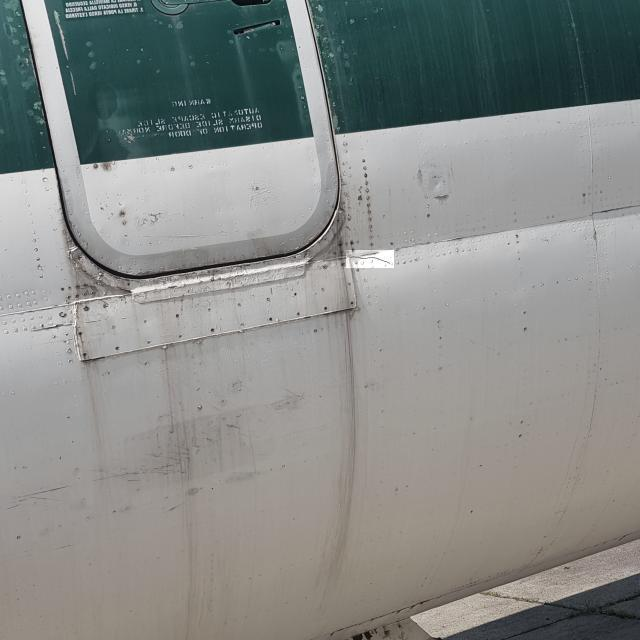crack: (347, 251, 396, 270)
